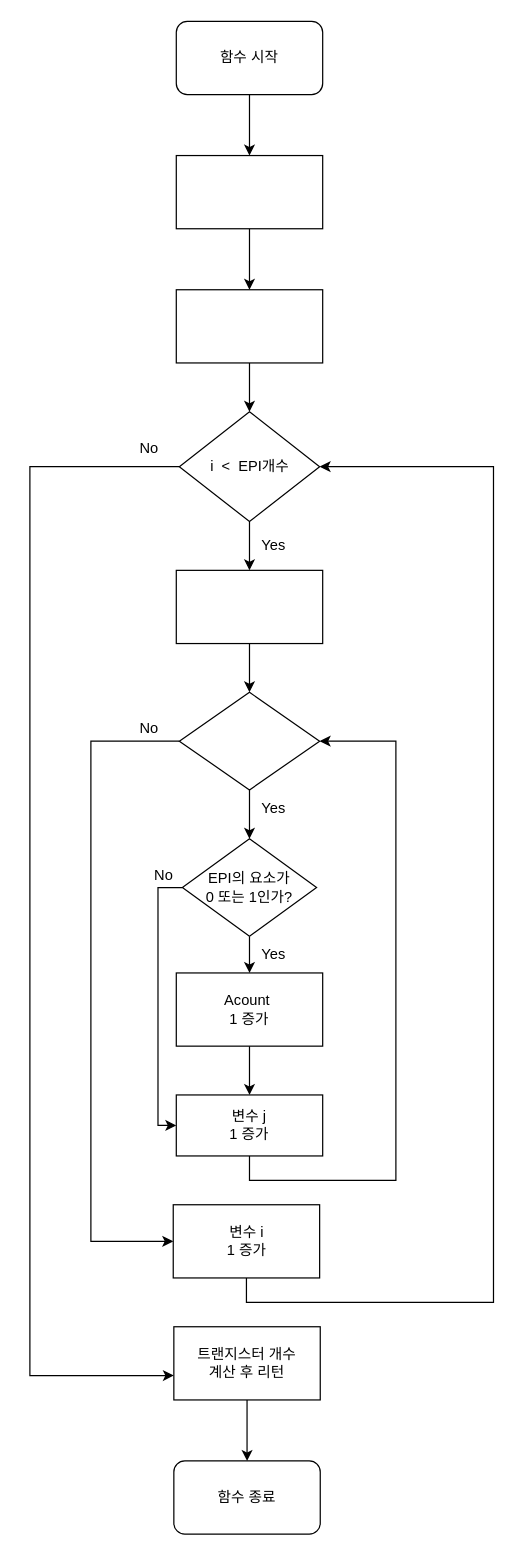
This 525x1556 diagram has some shape labels left out. Each missing label, with the centre of its shape:
ACount변수를 0으로 초기화: pixel 249 191
j < (EPI 1개 길이): pixel 249 740
반복 제어 변수 i 0으로 초기화: pixel 249 326
반복 제어 변수 j 0으로 초기화: pixel 249 606
